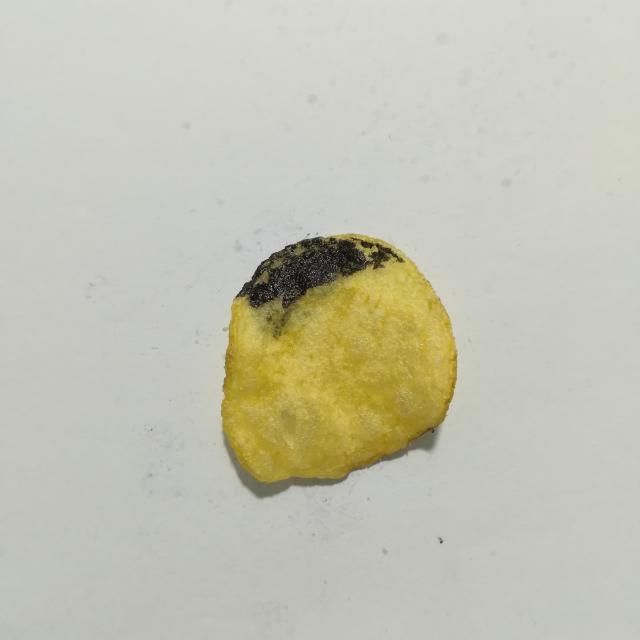chip: (221, 234, 457, 482)
damaged: (236, 237, 403, 308)
semi-damaged: (253, 276, 350, 340)
